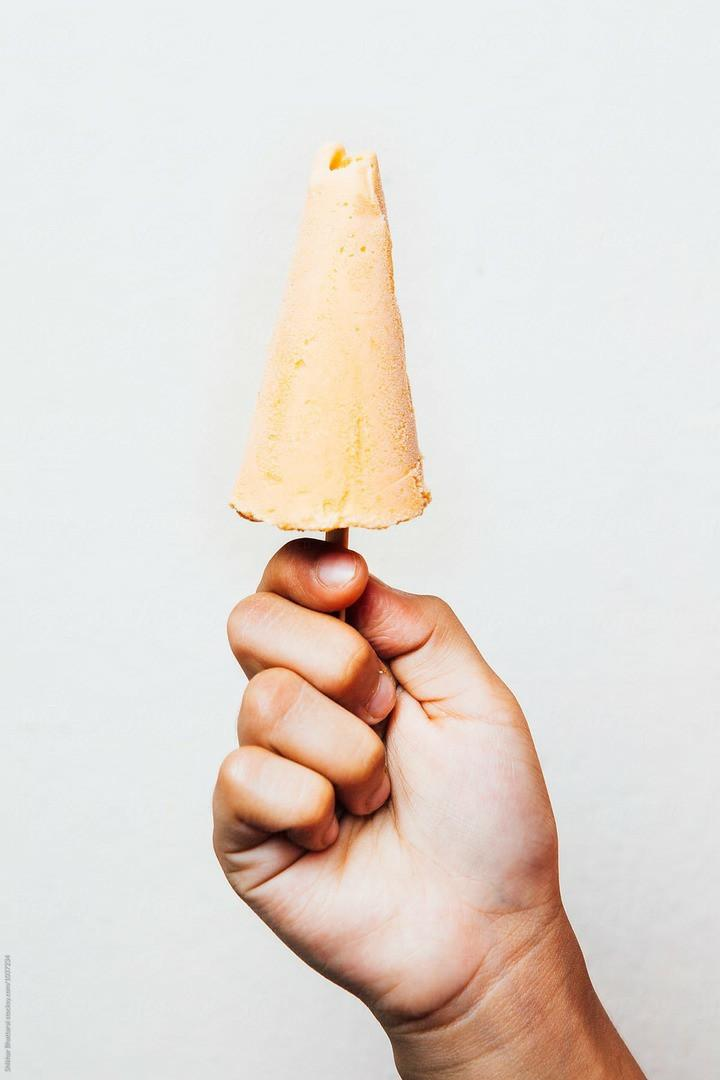Kulfi: (223, 128, 438, 539)
